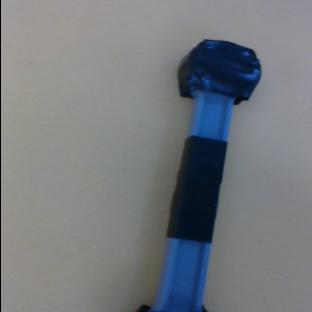part_3_bad: (121, 32, 265, 312)
